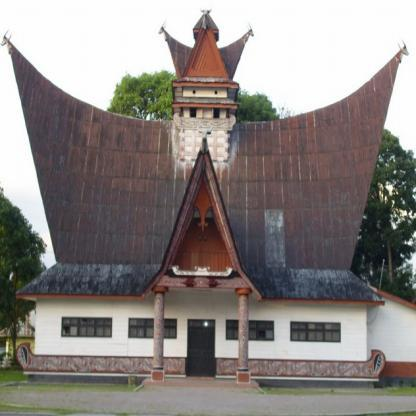Building Outline: (0, 7, 409, 384)
Facade: (57, 124, 351, 375)
Ground Floor: (34, 300, 367, 378), (177, 159, 229, 162)
Molding: (15, 342, 186, 375), (215, 349, 386, 379)
Pillar: (234, 288, 253, 384), (151, 286, 169, 382)
Roof: (0, 28, 409, 305), (158, 7, 255, 89)
Top Floor: (177, 86, 229, 159)
Window: (290, 320, 341, 343), (61, 317, 113, 338), (225, 319, 274, 341), (128, 317, 177, 338), (190, 108, 197, 117), (213, 108, 219, 117)
